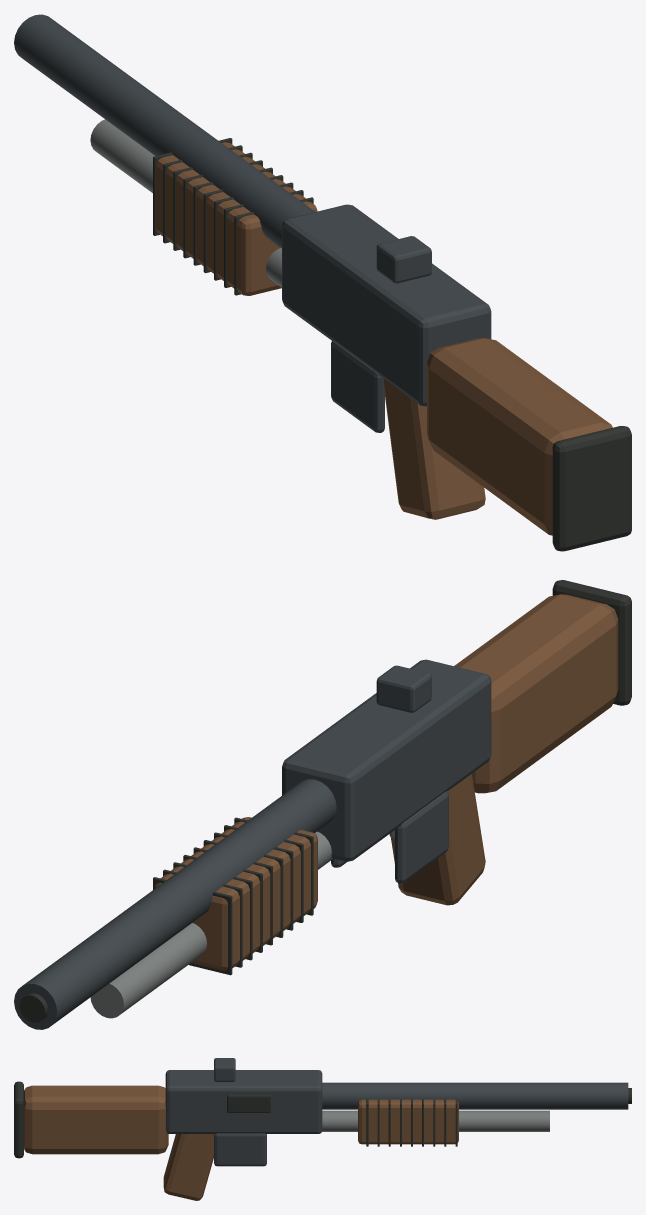
File: noir-shotgun.glb
3 views of the same model, one above another, from view 1: azimuth 30°, elevation 25°; view 2: azimuth 150°, elevation 25°; view 3: azimuth 270°, elevation 25° (orthographic). The views are drawn at different scales.
Parts seen in each view (by area): view 1: weapon-blued-steel.005, weapon-walnut.002, weapon-grip.003, weapon-walnut.003, weapon-grip.004, weapon-machined-steel.003; view 2: weapon-blued-steel.005, weapon-walnut.002, weapon-walnut.003, weapon-machined-steel.003, weapon-grip.004, weapon-grip.003; view 3: weapon-blued-steel.005, weapon-walnut.002, weapon-walnut.003, weapon-machined-steel.003, weapon-grip.003, weapon-grip.004.
Boxes of the visible parts, left/top/right/bottom form: weapon-blued-steel.005: left=14, top=14, right=491, bottom=432; weapon-walnut.002: left=383, top=338, right=612, bottom=535; weapon-grip.003: left=552, top=426, right=631, bottom=551; weapon-walnut.003: left=156, top=142, right=317, bottom=295; weapon-grip.004: left=153, top=138, right=313, bottom=295; weapon-machined-steel.003: left=90, top=119, right=281, bottom=287; weapon-blued-steel.005: left=14, top=659, right=491, bottom=1029; weapon-walnut.002: left=391, top=594, right=618, bottom=905; weapon-walnut.003: left=155, top=817, right=317, bottom=970; weapon-machined-steel.003: left=90, top=830, right=394, bottom=1018; weapon-grip.004: left=153, top=817, right=313, bottom=975; weapon-grip.003: left=19, top=580, right=631, bottom=1022; weapon-blued-steel.005: left=165, top=1058, right=628, bottom=1166; weapon-walnut.002: left=24, top=1085, right=214, bottom=1200; weapon-walnut.003: left=358, top=1099, right=458, bottom=1144; weapon-machined-steel.003: left=322, top=1110, right=549, bottom=1131; weapon-grip.003: left=14, top=1081, right=631, bottom=1158; weapon-grip.004: left=366, top=1099, right=457, bottom=1146.
Size of the model in its own units: 0.1005 by 0.2898 by 1.22.
